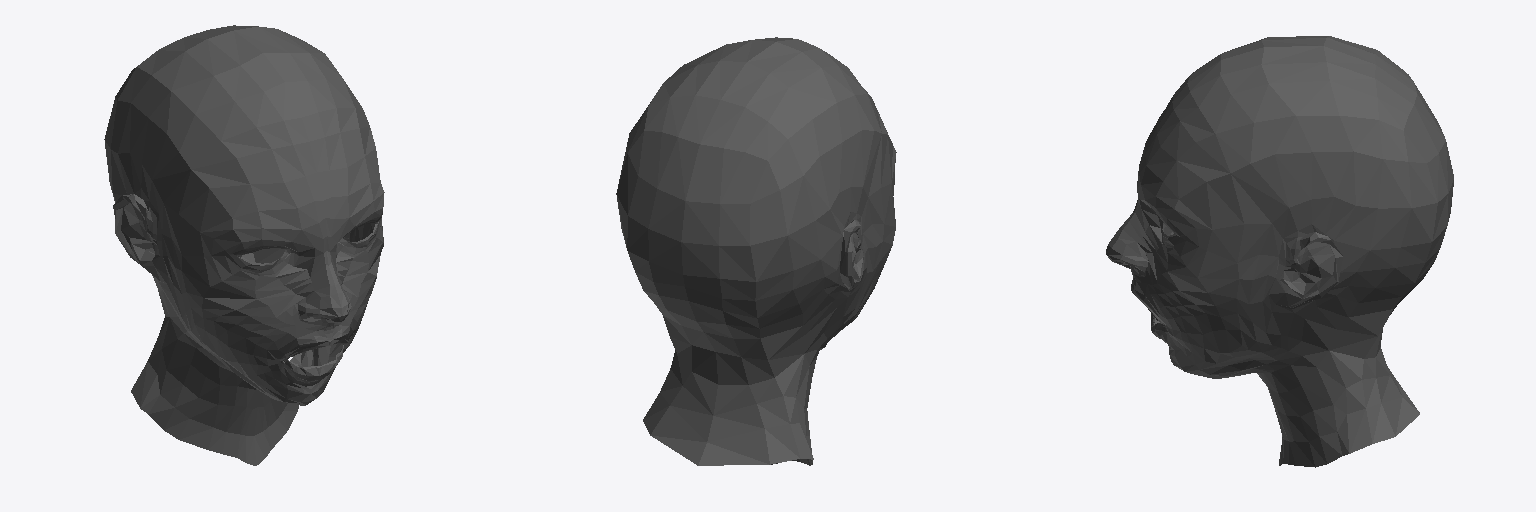
File: JawOpen.obj
The picture shows the model from 3 angles: view 1: azimuth 30°, elevation 25°; view 2: azimuth 150°, elevation 25°; view 3: azimuth 270°, elevation 25°; orthographic projection.
Parts seen in each view (by area): view 1: default; view 2: default; view 3: default.
Boxes of the visible parts, x1,y1,x2,y2 form: default: [104, 25, 384, 465]; default: [616, 37, 896, 465]; default: [1106, 36, 1453, 467].
Bounding box in the file's own units: 6.99 × 12.46 × 9.39.